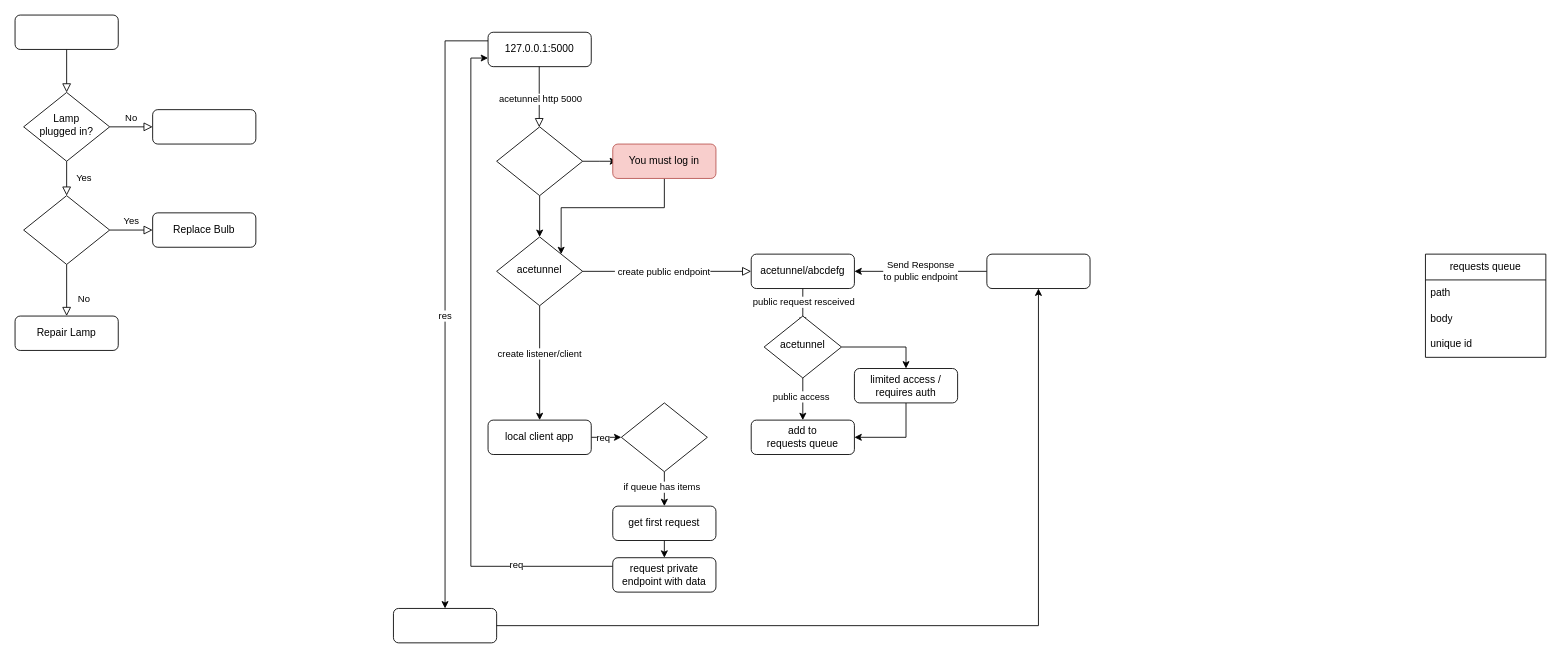
Image size: 1561x658. Some labels were removed from this diagram. The centre of each missing label's shape, as x and y in pixels:
add to responses pool with id: point 445,625
Bulb burned out?: point 66,229
check for queue: point 663,437
ID loop detects response now exists: point 1038,271
Lamp doesn't work: point 66,31
logged in: point 539,161
Plug in lamp: point 204,126
